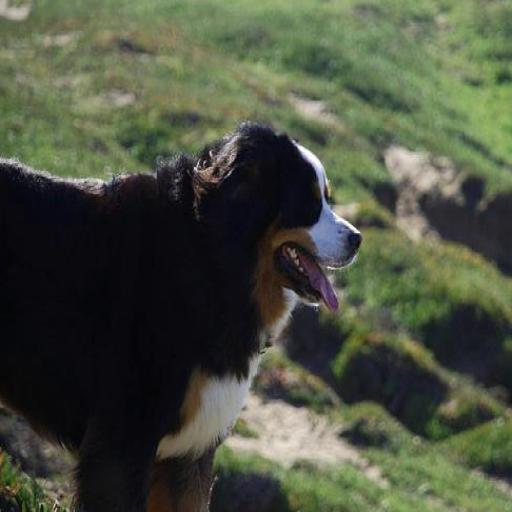dog_face: (199, 129, 363, 308)
